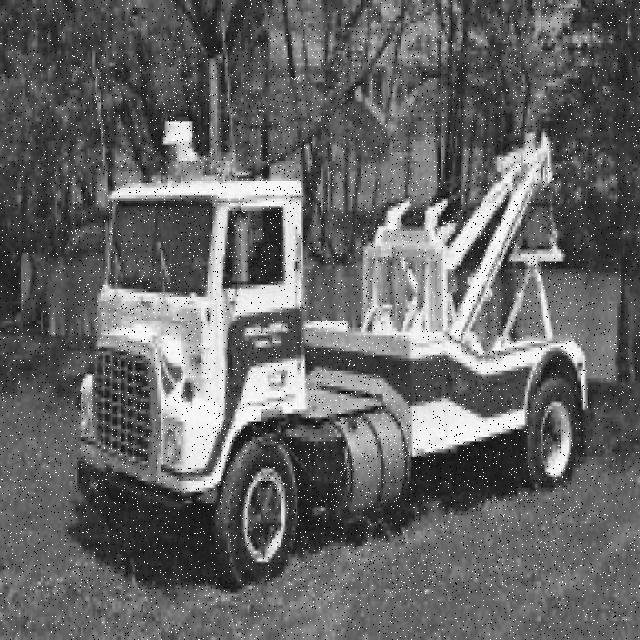Tow Truck: (69, 56, 587, 593)
